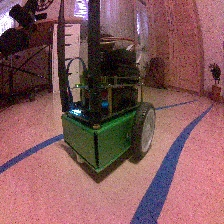rob: (61, 48, 156, 174)
